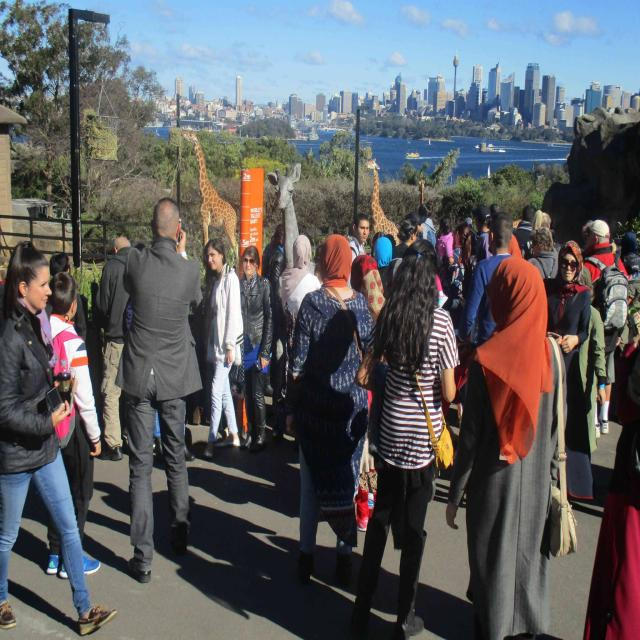body: (8, 453, 489, 639), (440, 252, 580, 640), (0, 237, 118, 638), (348, 236, 460, 640), (110, 196, 208, 590), (280, 231, 375, 590), (580, 310, 640, 640), (42, 269, 102, 583), (542, 237, 594, 501), (580, 218, 629, 441), (94, 234, 137, 462), (201, 238, 243, 460), (349, 252, 379, 533), (236, 244, 275, 456), (459, 210, 515, 351), (580, 264, 608, 463), (117, 400, 196, 453), (49, 250, 90, 345), (280, 234, 322, 321), (440, 220, 478, 300), (120, 242, 148, 348), (346, 211, 371, 289), (519, 208, 554, 262), (527, 224, 558, 278), (262, 223, 287, 286), (512, 203, 537, 249), (617, 231, 640, 281), (392, 218, 418, 260), (436, 214, 456, 265), (403, 208, 428, 248), (370, 228, 399, 259), (418, 202, 437, 249), (470, 203, 492, 234), (312, 243, 325, 287), (578, 220, 594, 253), (465, 216, 480, 247), (488, 203, 501, 218), (270, 234, 274, 244)
